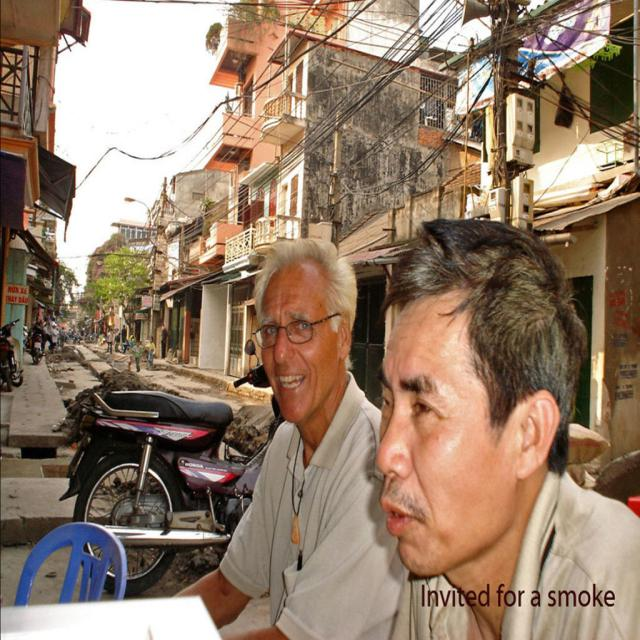Motorbikes: (69, 388, 251, 589)
